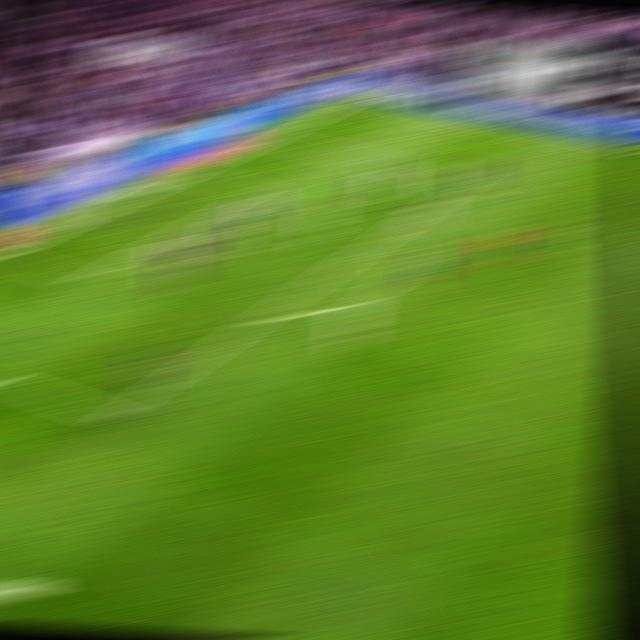bigarea_bottom_inner: (95, 402, 131, 428)
bigarea_top_inner: (451, 175, 482, 188)
bigarea_top_outter: (261, 131, 293, 143)
bottom_arc_area_intersection: (249, 306, 282, 325)
corner: (344, 96, 375, 103)
smallarea_bottom_inner: (64, 271, 96, 287)
top_arc_area_intersection: (371, 229, 402, 242)
